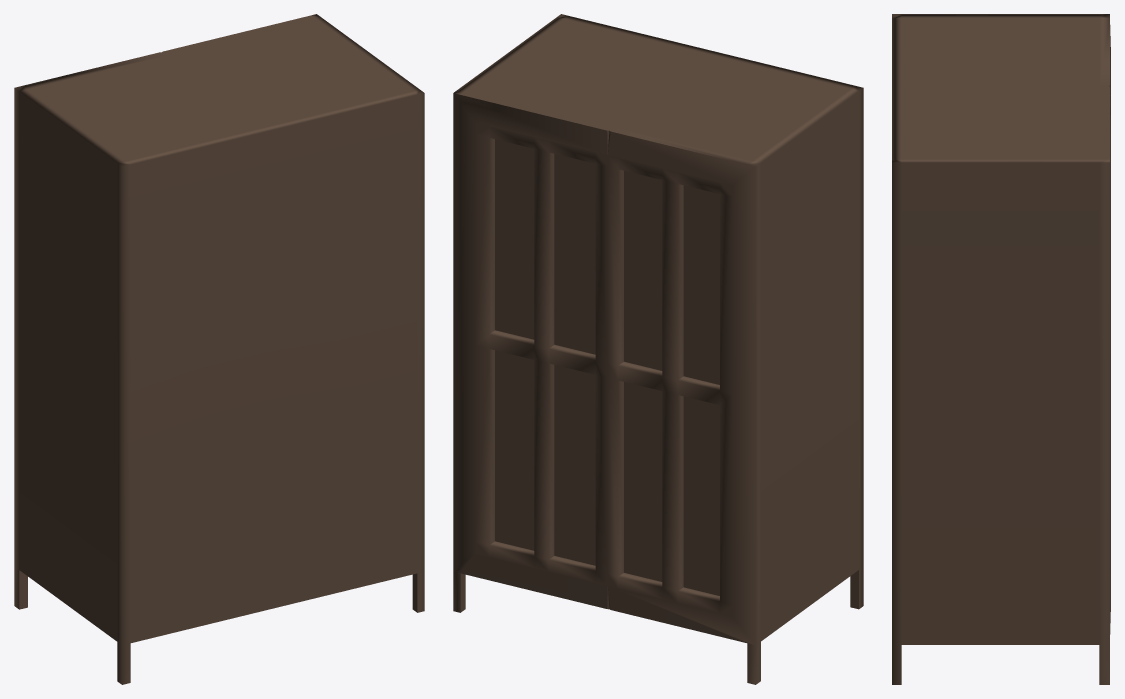
Rendered from 3d wardrobe.fbx.
3 renders of one model, left to right at view 1: azimuth 30°, elevation 25°; view 2: azimuth 150°, elevation 25°; view 3: azimuth 270°, elevation 25°, orthographic.
Visible parts, largest first — view 1: d_wardrobe1:pCube2; view 2: d_wardrobe1:pCube2; view 3: d_wardrobe1:pCube2.
Boxes of the visible parts, <box> form: d_wardrobe1:pCube2: <box>14,14,424,684</box>; d_wardrobe1:pCube2: <box>453,14,863,684</box>; d_wardrobe1:pCube2: <box>892,14,1110,684</box>.
Size of the model in its own units: 117 by 192 by 72.99.
